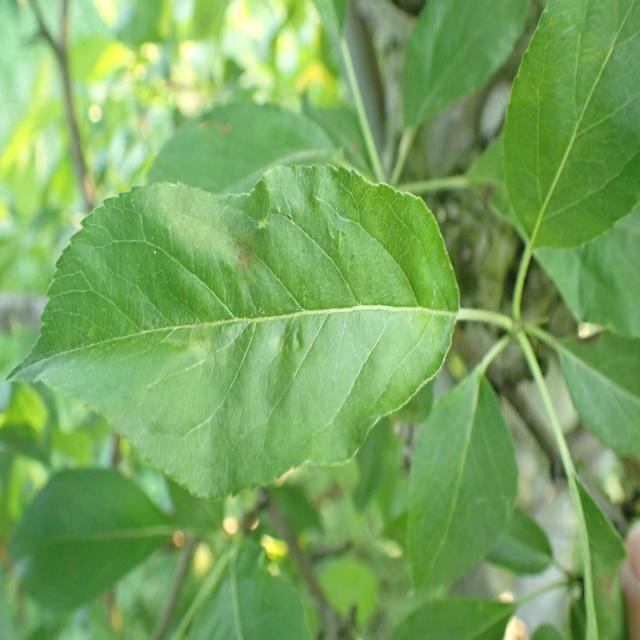scab: (123, 142, 303, 465)
